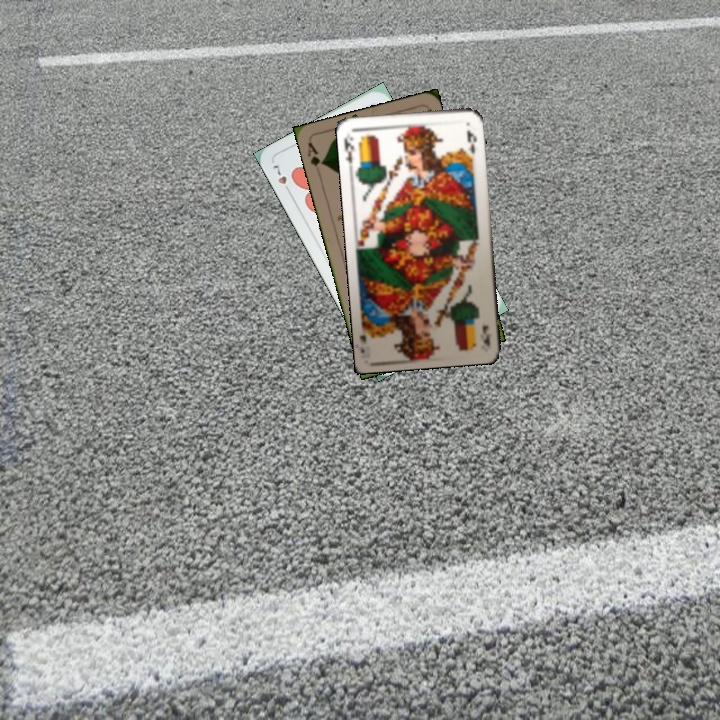EK: (340, 129, 357, 166), (479, 321, 493, 347)
GA: (304, 138, 327, 169)
H7: (269, 161, 294, 196)
